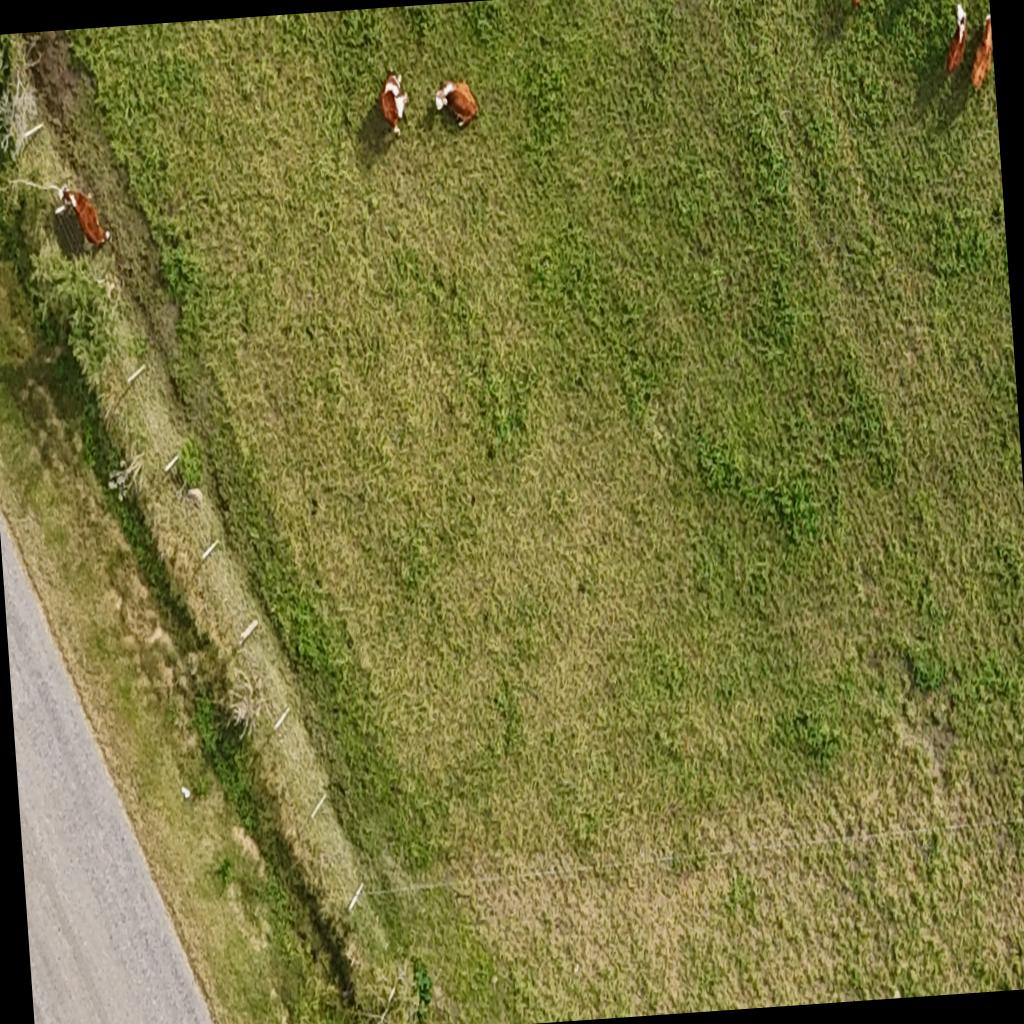cow: (58, 183, 110, 249), (375, 66, 416, 142), (432, 75, 479, 131), (965, 10, 996, 93), (941, 0, 973, 78), (843, 0, 863, 8)
